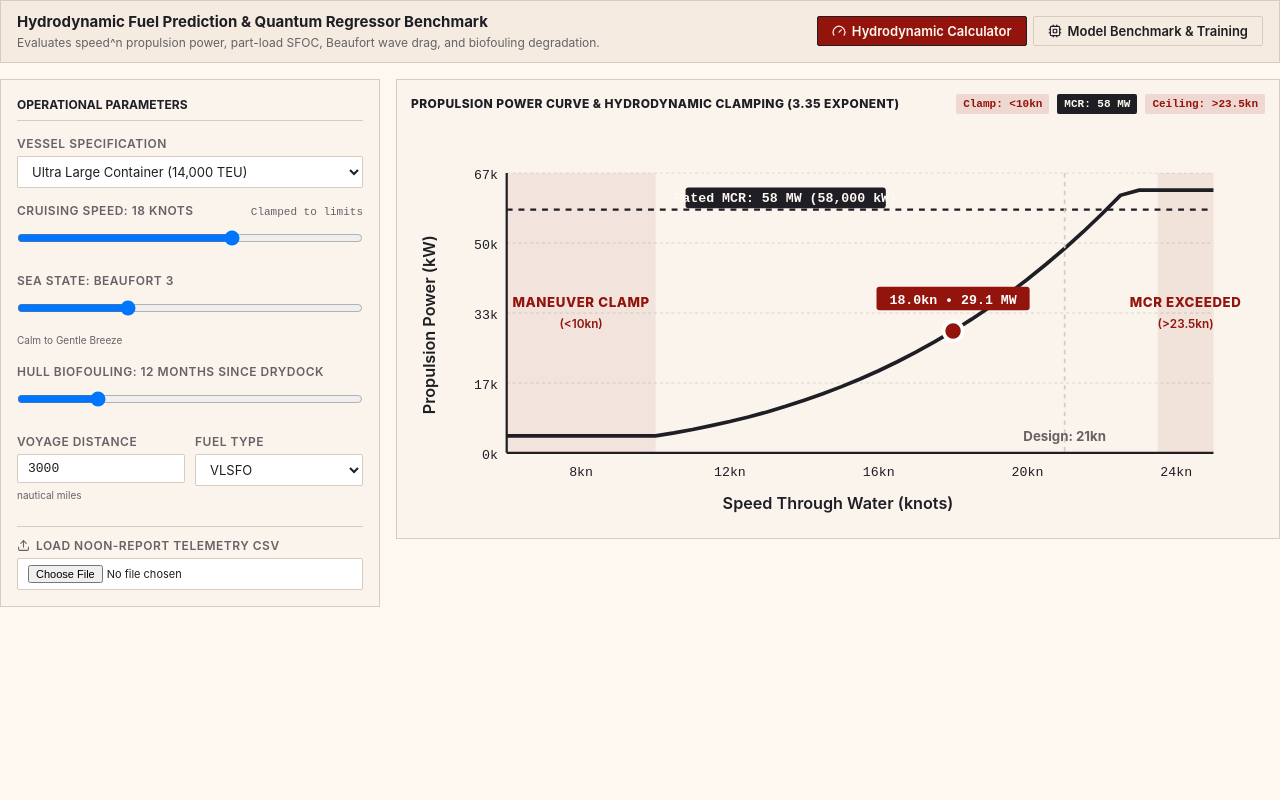
Scenario: PredictorPage Component › switches to training and benchmarking tab
Click the button "Model Benchmark & Training". click: (1148, 31)
box: [1033, 16, 1263, 46]
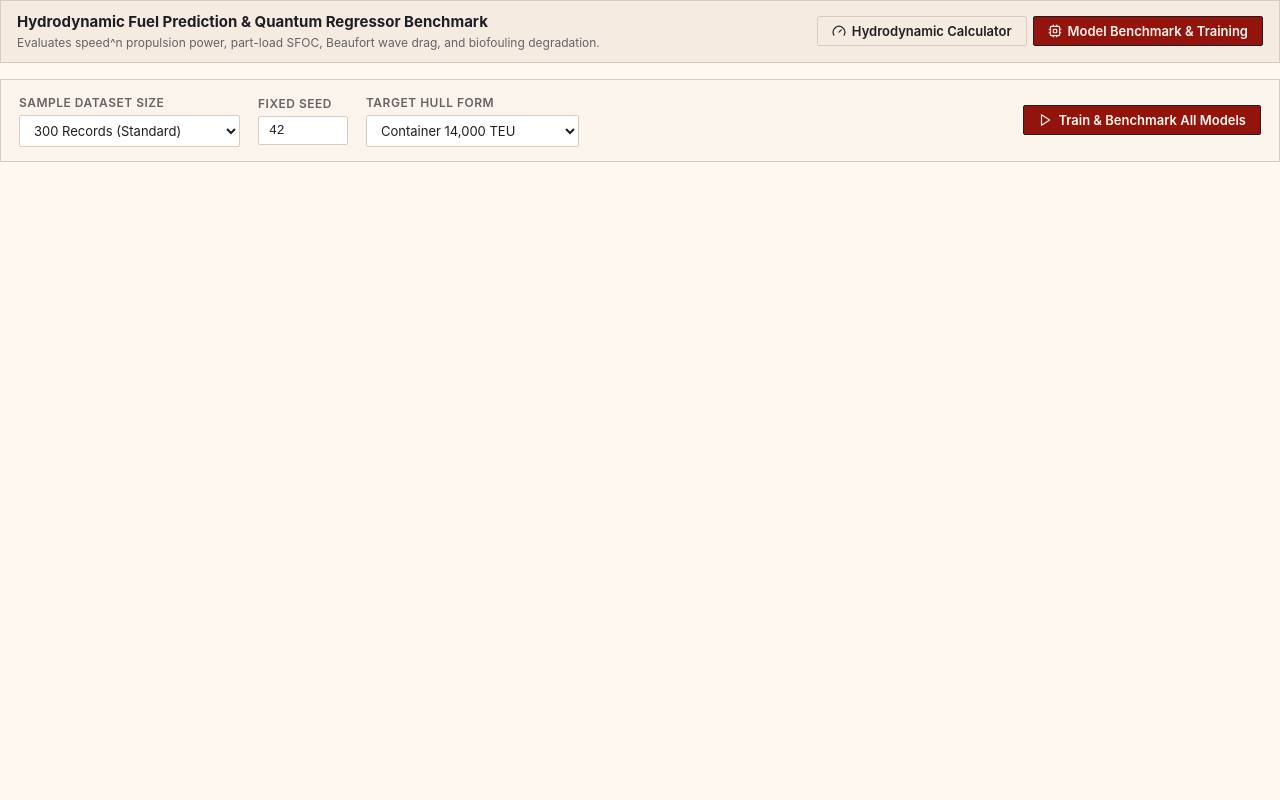
Expected: the button "Train & Benchmark All Models" is shown, [1023, 105, 1261, 135]
Expected: the text "Sample Dataset Size" is shown, [19, 94, 164, 110]
